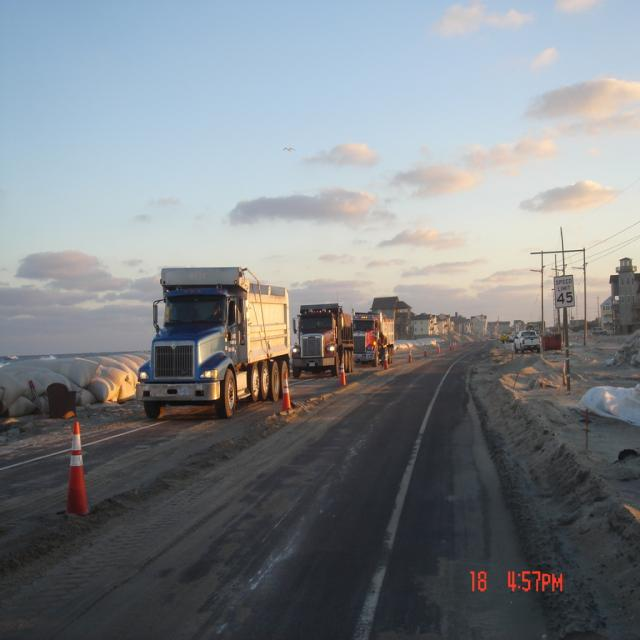Heavy Duty Truck: (133, 262, 291, 422), (292, 302, 353, 380), (354, 311, 396, 365)
Pickup Trucks: (516, 331, 542, 355)
